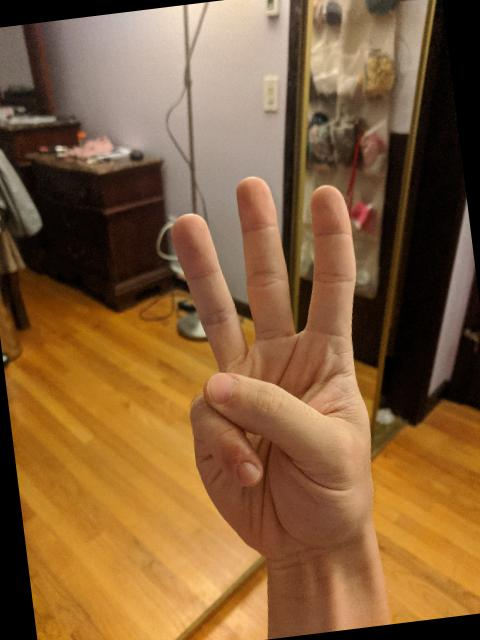W: (154, 160, 398, 576)
